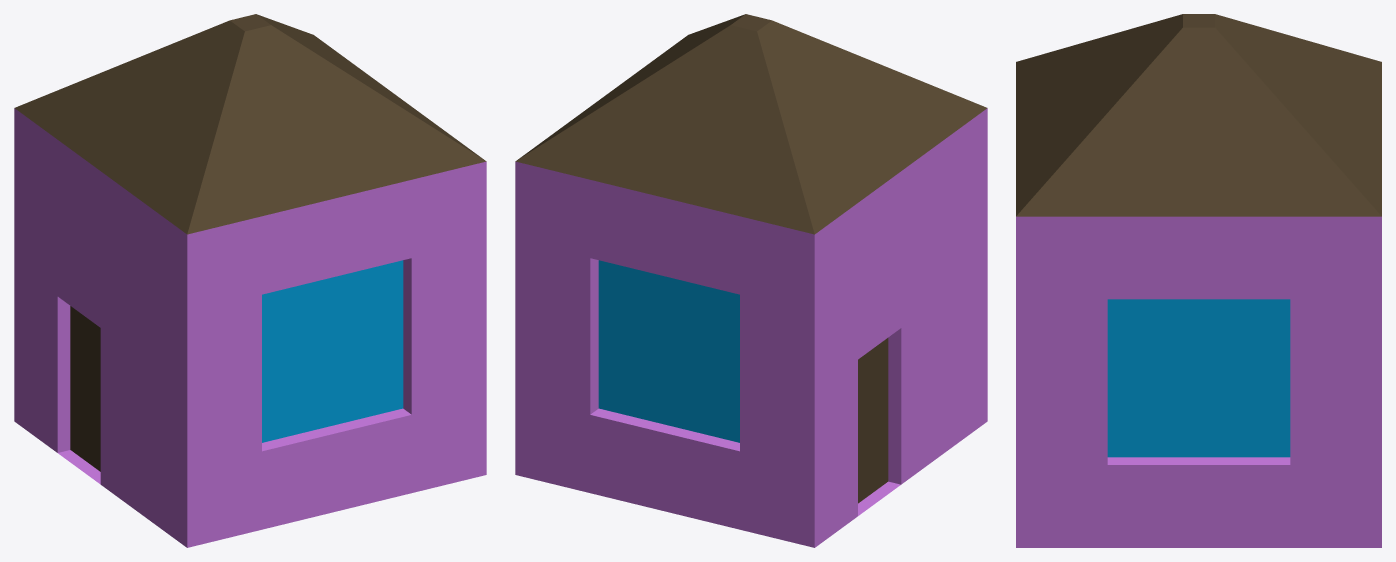
Rendered from Building_C.fbx.
3 renders of one model, left to right at view 1: azimuth 30°, elevation 25°; view 2: azimuth 150°, elevation 25°; view 3: azimuth 270°, elevation 25°, orthographic. The views are drawn at different scales.
Parts seen in each view (by area): view 1: Plane; view 2: Plane; view 3: Plane.
Part boxes in pixels (x1=…): Plane: x1=14, y1=14, x2=486, y2=547; Plane: x1=515, y1=14, x2=987, y2=547; Plane: x1=1016, y1=14, x2=1381, y2=547.
Size of the model in its own units: 100 by 136 by 100.
